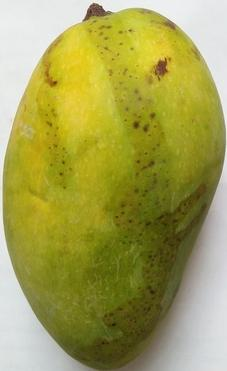PartiallyRipe: (0, 1, 227, 371)
